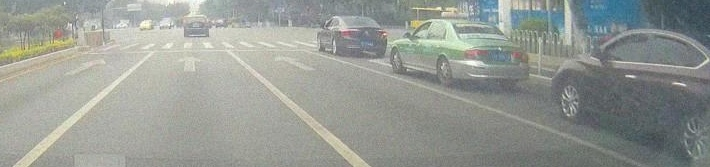L_light: (465, 48, 488, 60), (340, 29, 360, 38), (184, 23, 187, 27)
R_light: (512, 51, 528, 61), (377, 30, 386, 37), (205, 23, 209, 27)
T_light: (469, 23, 479, 25), (353, 17, 361, 19), (193, 16, 200, 18)
day-no: (449, 21, 529, 89), (183, 15, 209, 37)
day-right: (336, 16, 387, 55)
